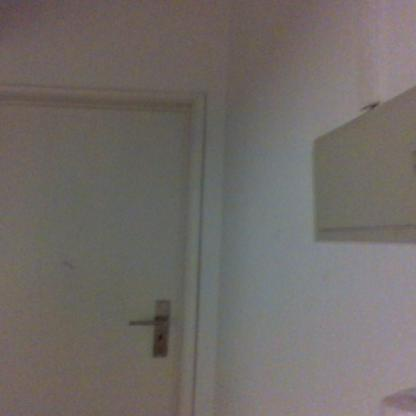door: (0, 101, 185, 416)
lever: (126, 318, 171, 327)
